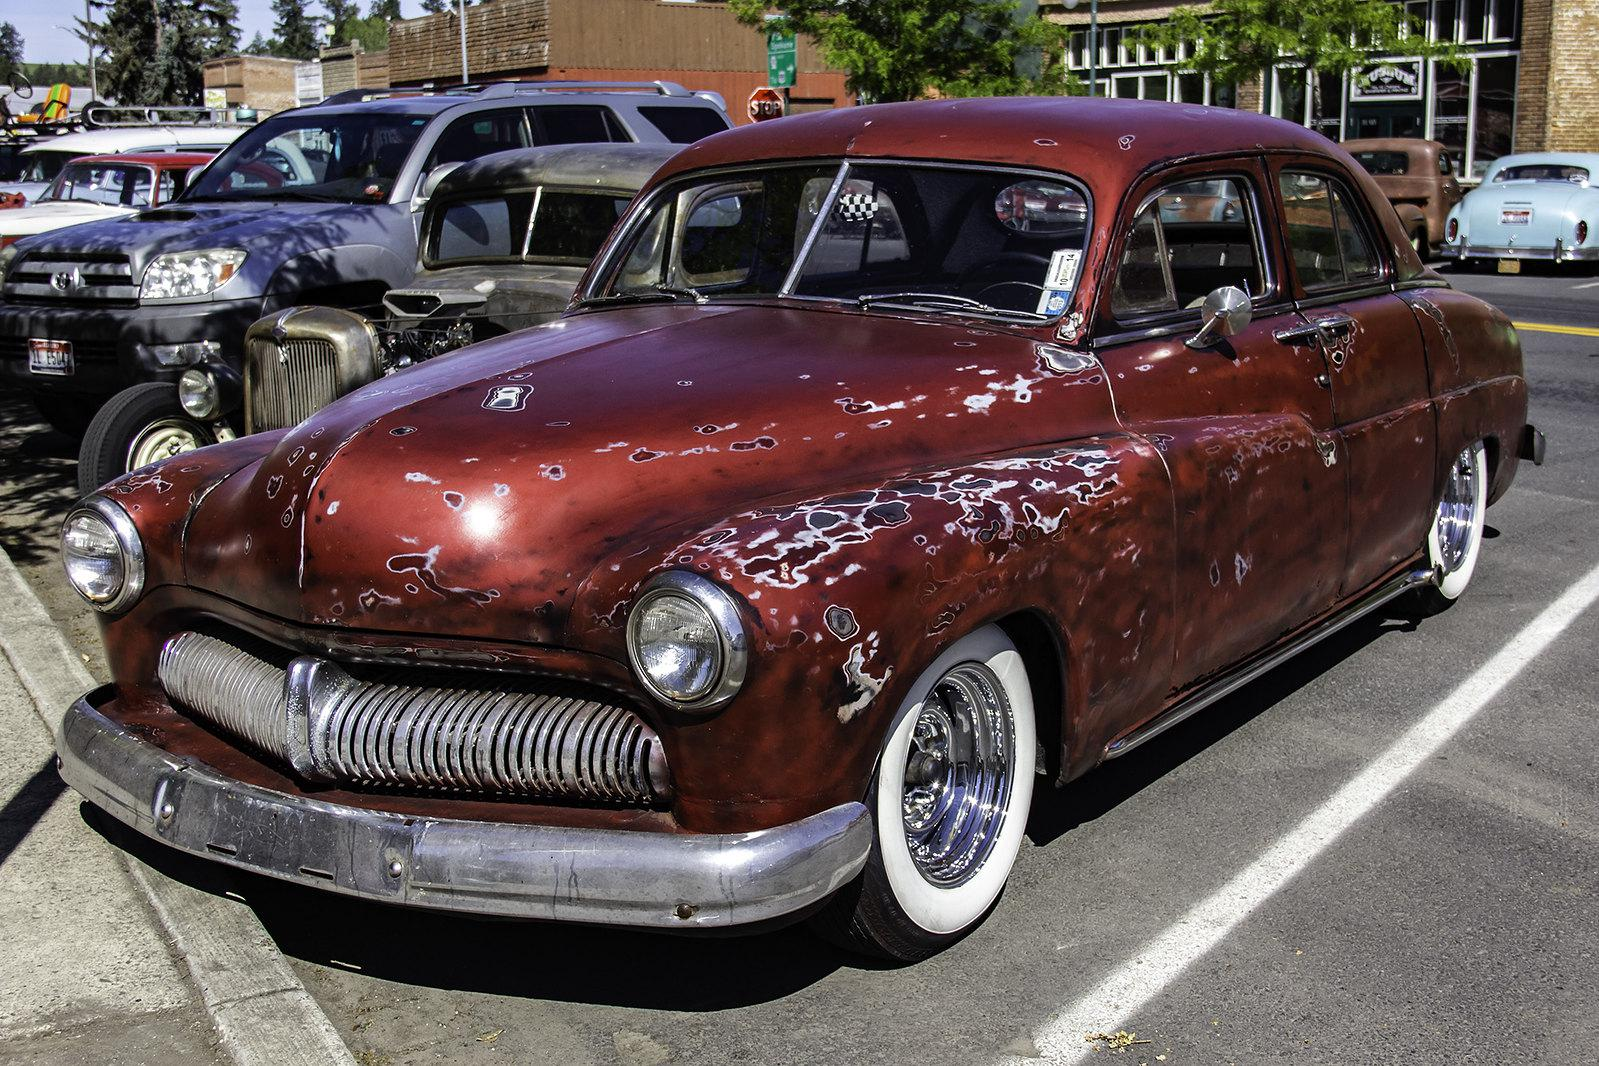doorouter-dent: (1138, 333, 1344, 643)
fender-dent: (793, 478, 1132, 713)
